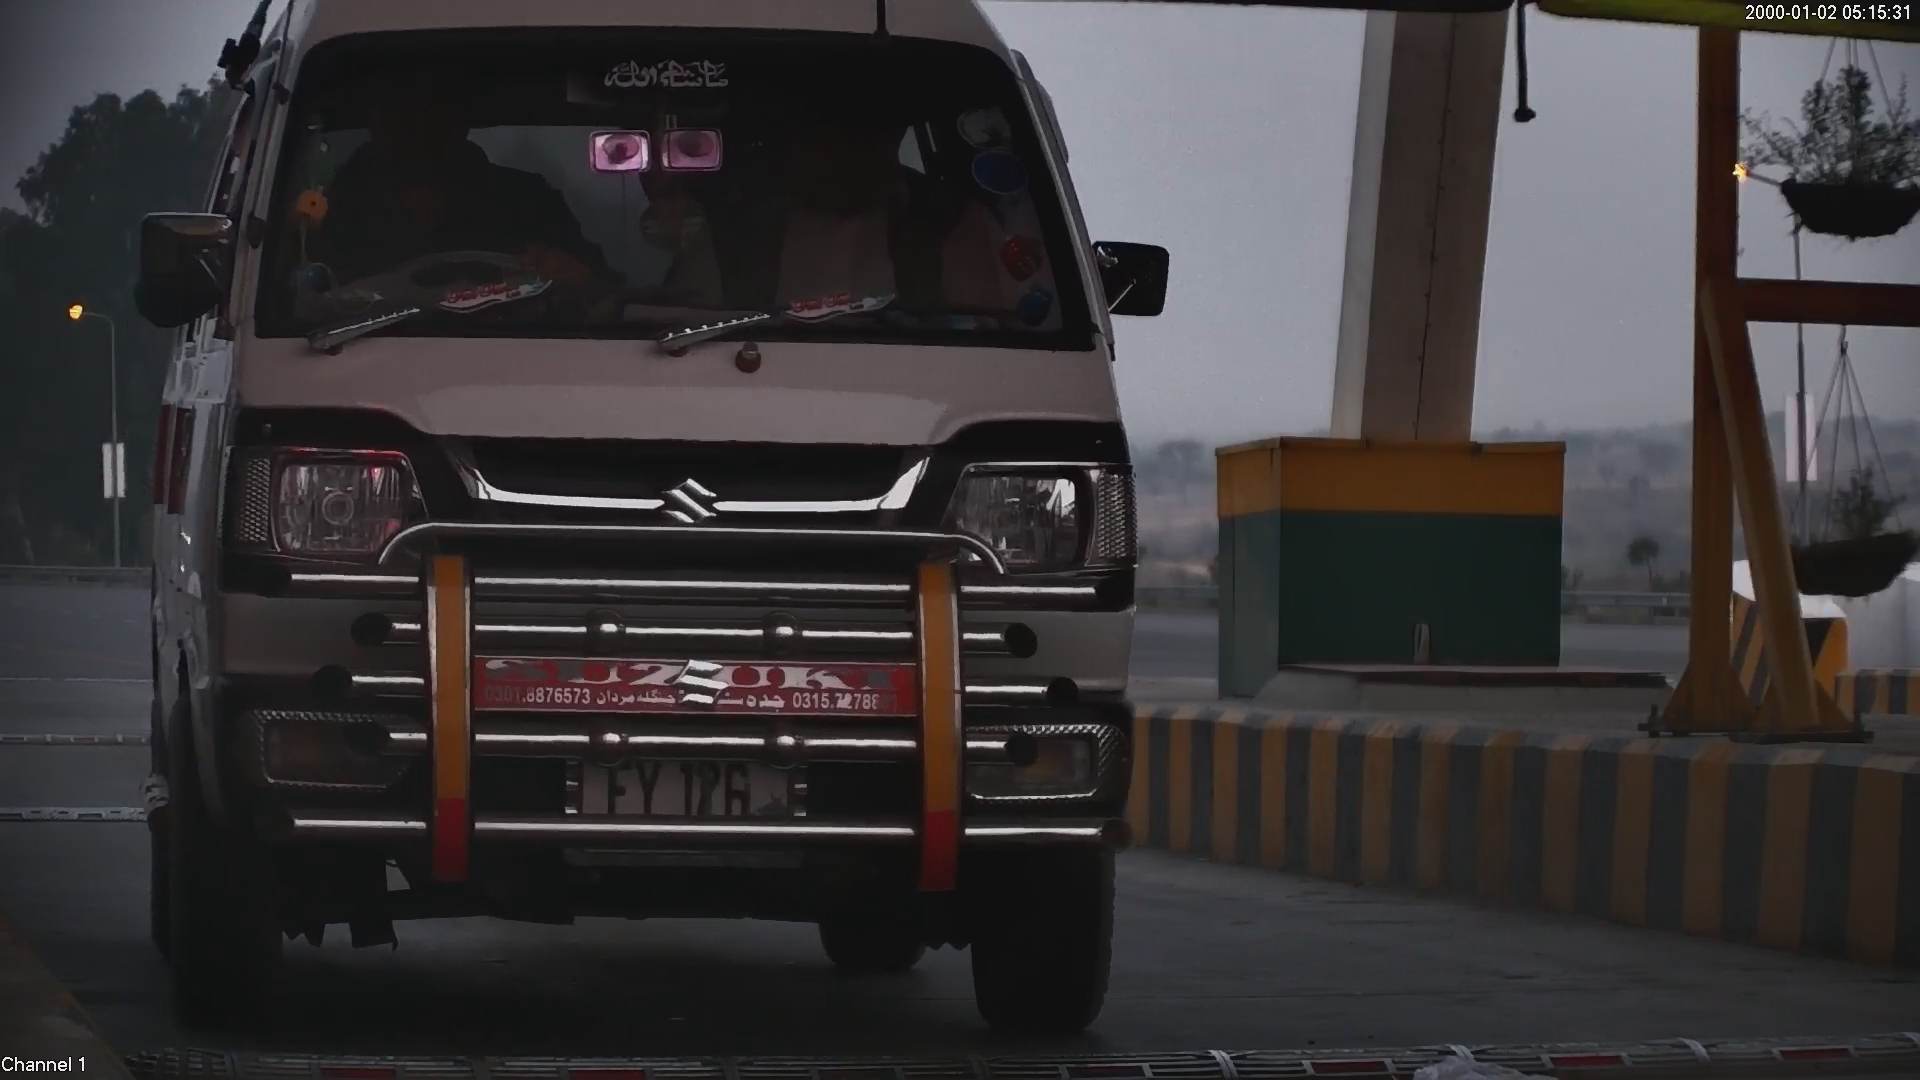Number_Plate: (568, 744, 801, 835)
